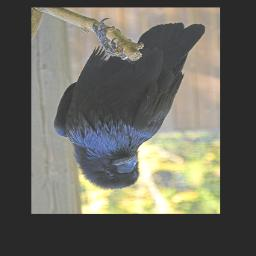Crow: (53, 18, 205, 191)
